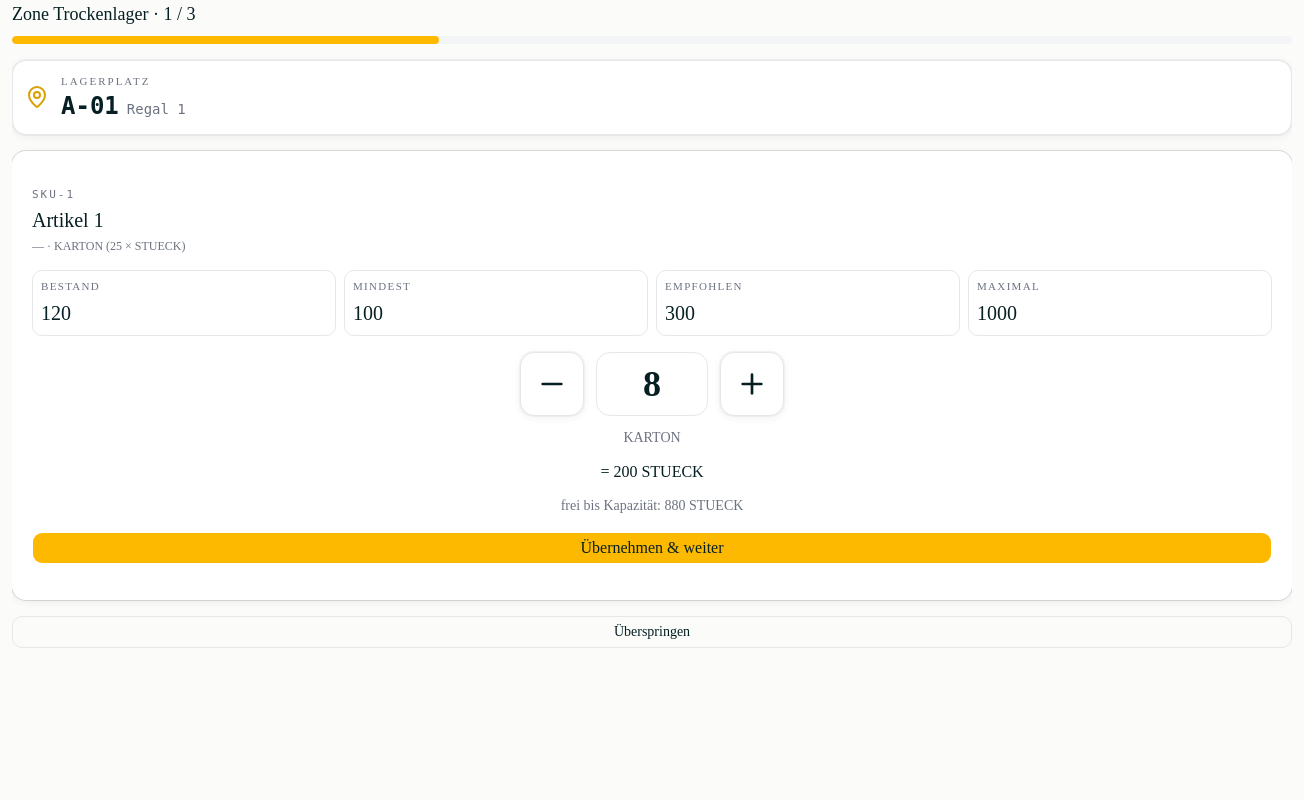
Test: ZoneWalk › Übernehmen & weiter ruft PUT und springt erst nach Erfolg auf 2
Check: the heading "Artikel 1" is shown, box [32,209,104,231]
Click the button "Übernehmen & weiter" at (652, 548), box [32,532,1272,564]
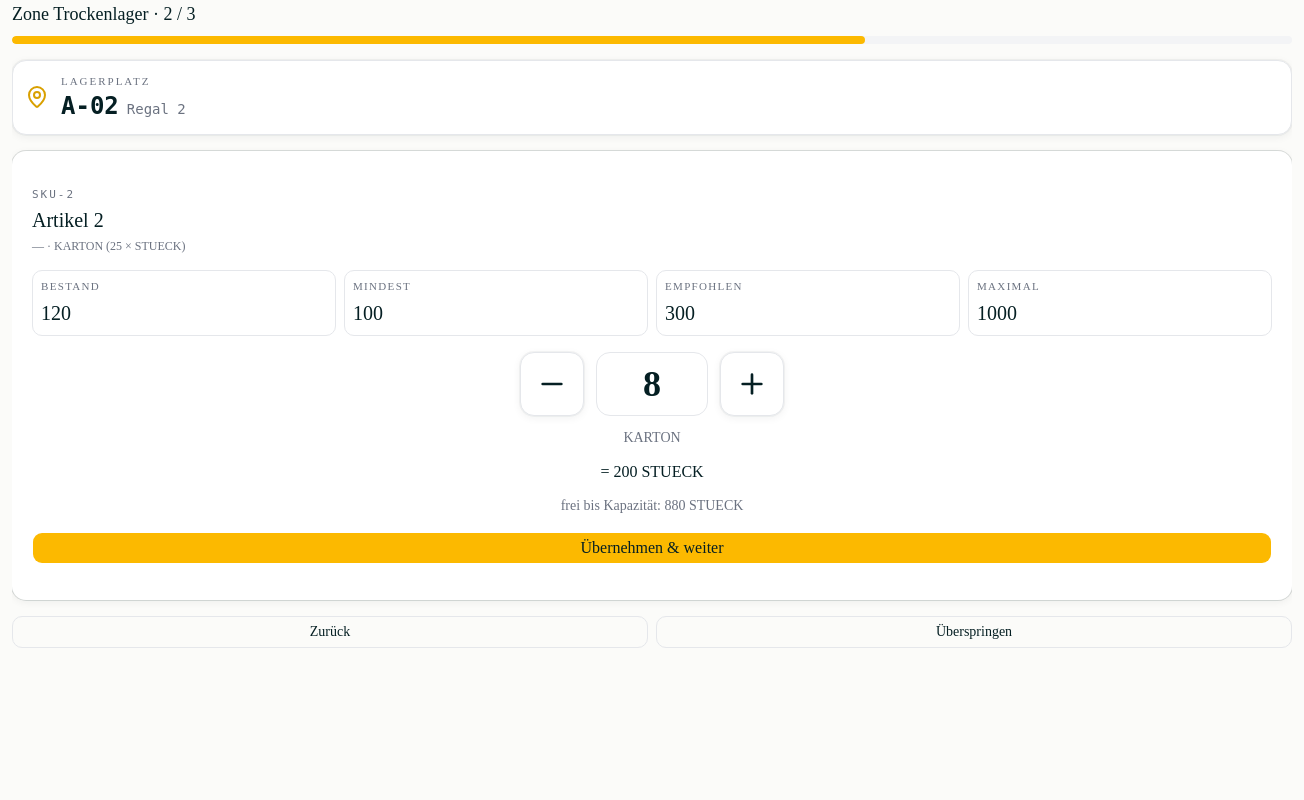
Check: the heading "Artikel 2" is shown, box [32,209,104,231]
Check: the heading "Zone Trockenlager · 2 / 3" is shown, box [12,4,196,24]
